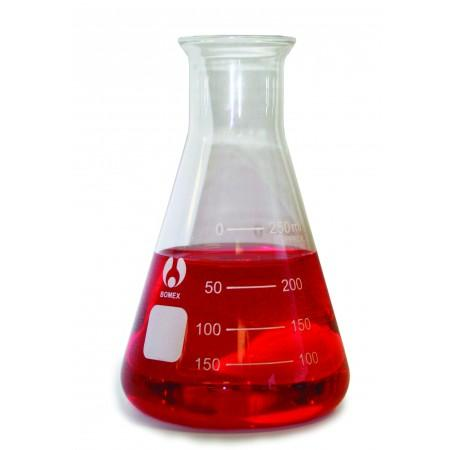Titrarion: (109, 26, 356, 429)
